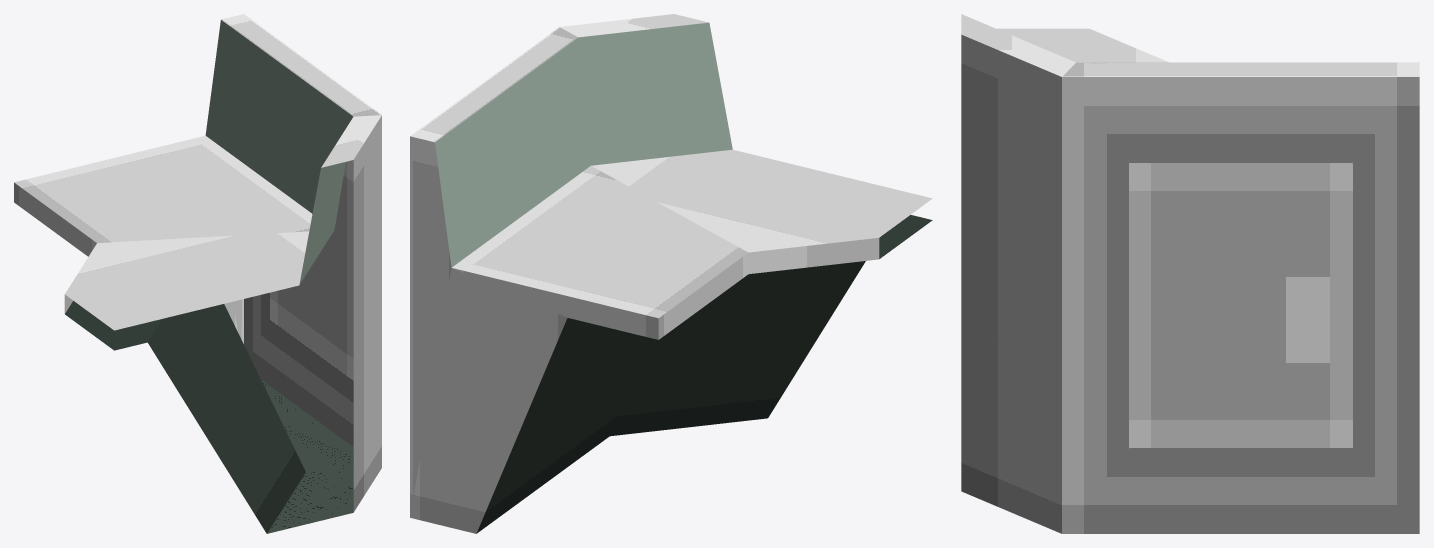
File: desk_corner_inside_2_2_2.obj
3 views of the same model, side by side, from view 1: azimuth 30°, elevation 25°; view 2: azimuth 150°, elevation 25°; view 3: azimuth 270°, elevation 25° (orthographic). The views are drawn at different scales.
Bounding box in the file's own units: 1 × 1.1 × 1.
